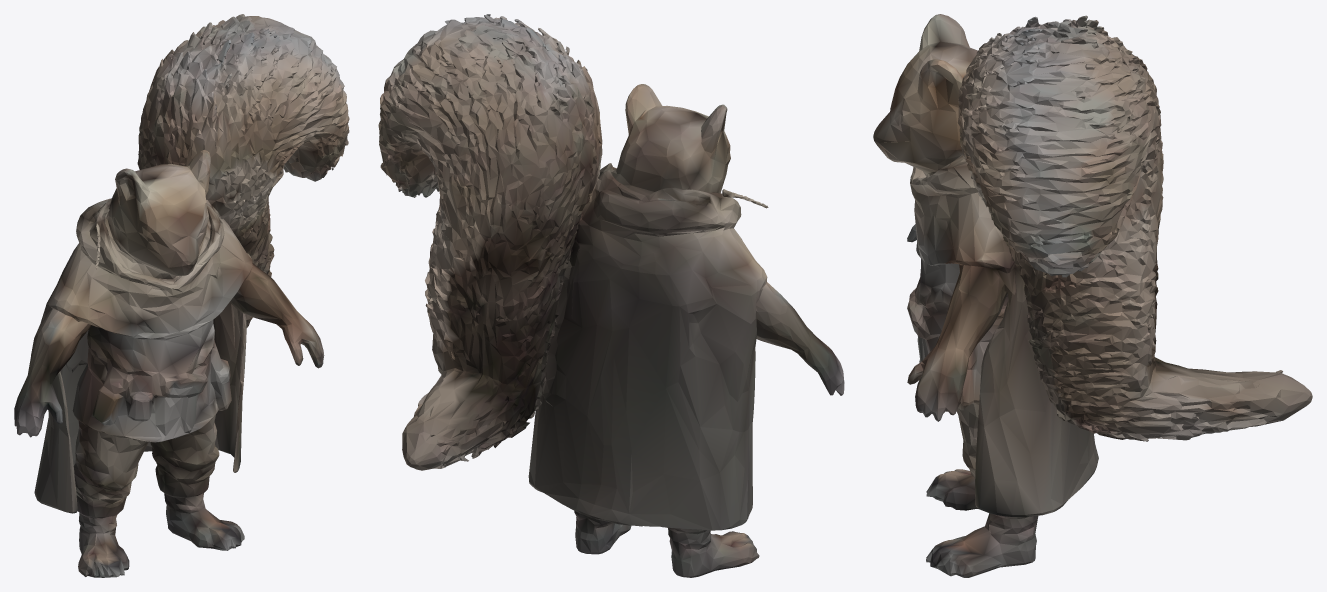
Rendered from worker-color.glb.
3 renders of one model, left to right at view 1: azimuth 30°, elevation 25°; view 2: azimuth 150°, elevation 25°; view 3: azimuth 270°, elevation 25°, orthographic. The views are drawn at different scales.
Visible parts, largest first — view 1: world; view 2: world; view 3: world.
Part boxes in pixels (left/top/right/bottom): world: left=14, top=14, right=349, bottom=577; world: left=378, top=14, right=844, bottom=577; world: left=873, top=14, right=1312, bottom=577.
Bounding box in the file's own units: 1.6 × 1.95 × 1.35.
